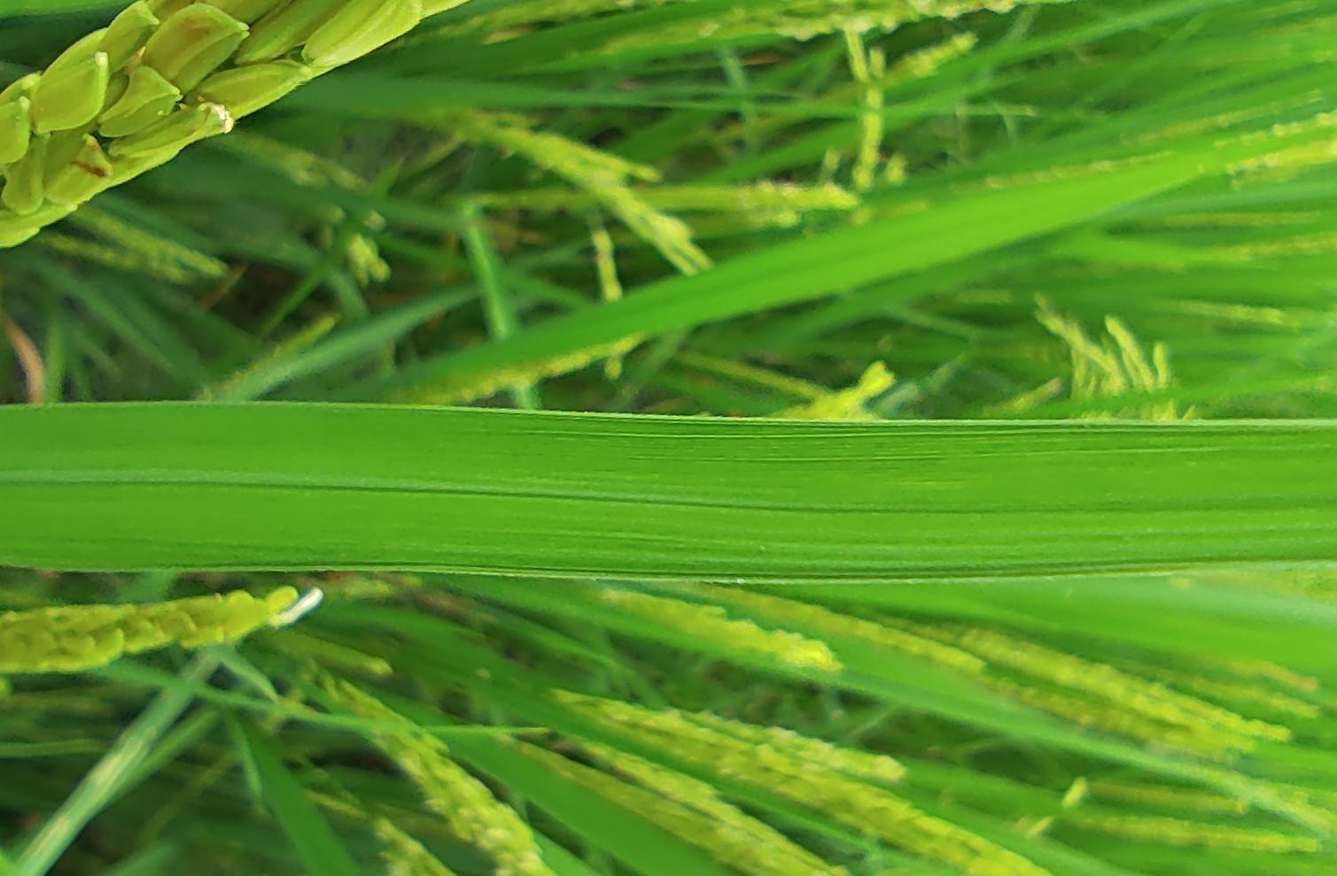Healthy: (0, 403, 1336, 584)
